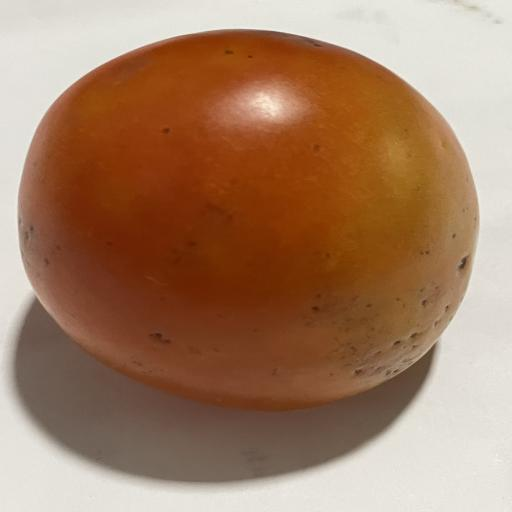ripe: (18, 30, 478, 410)
